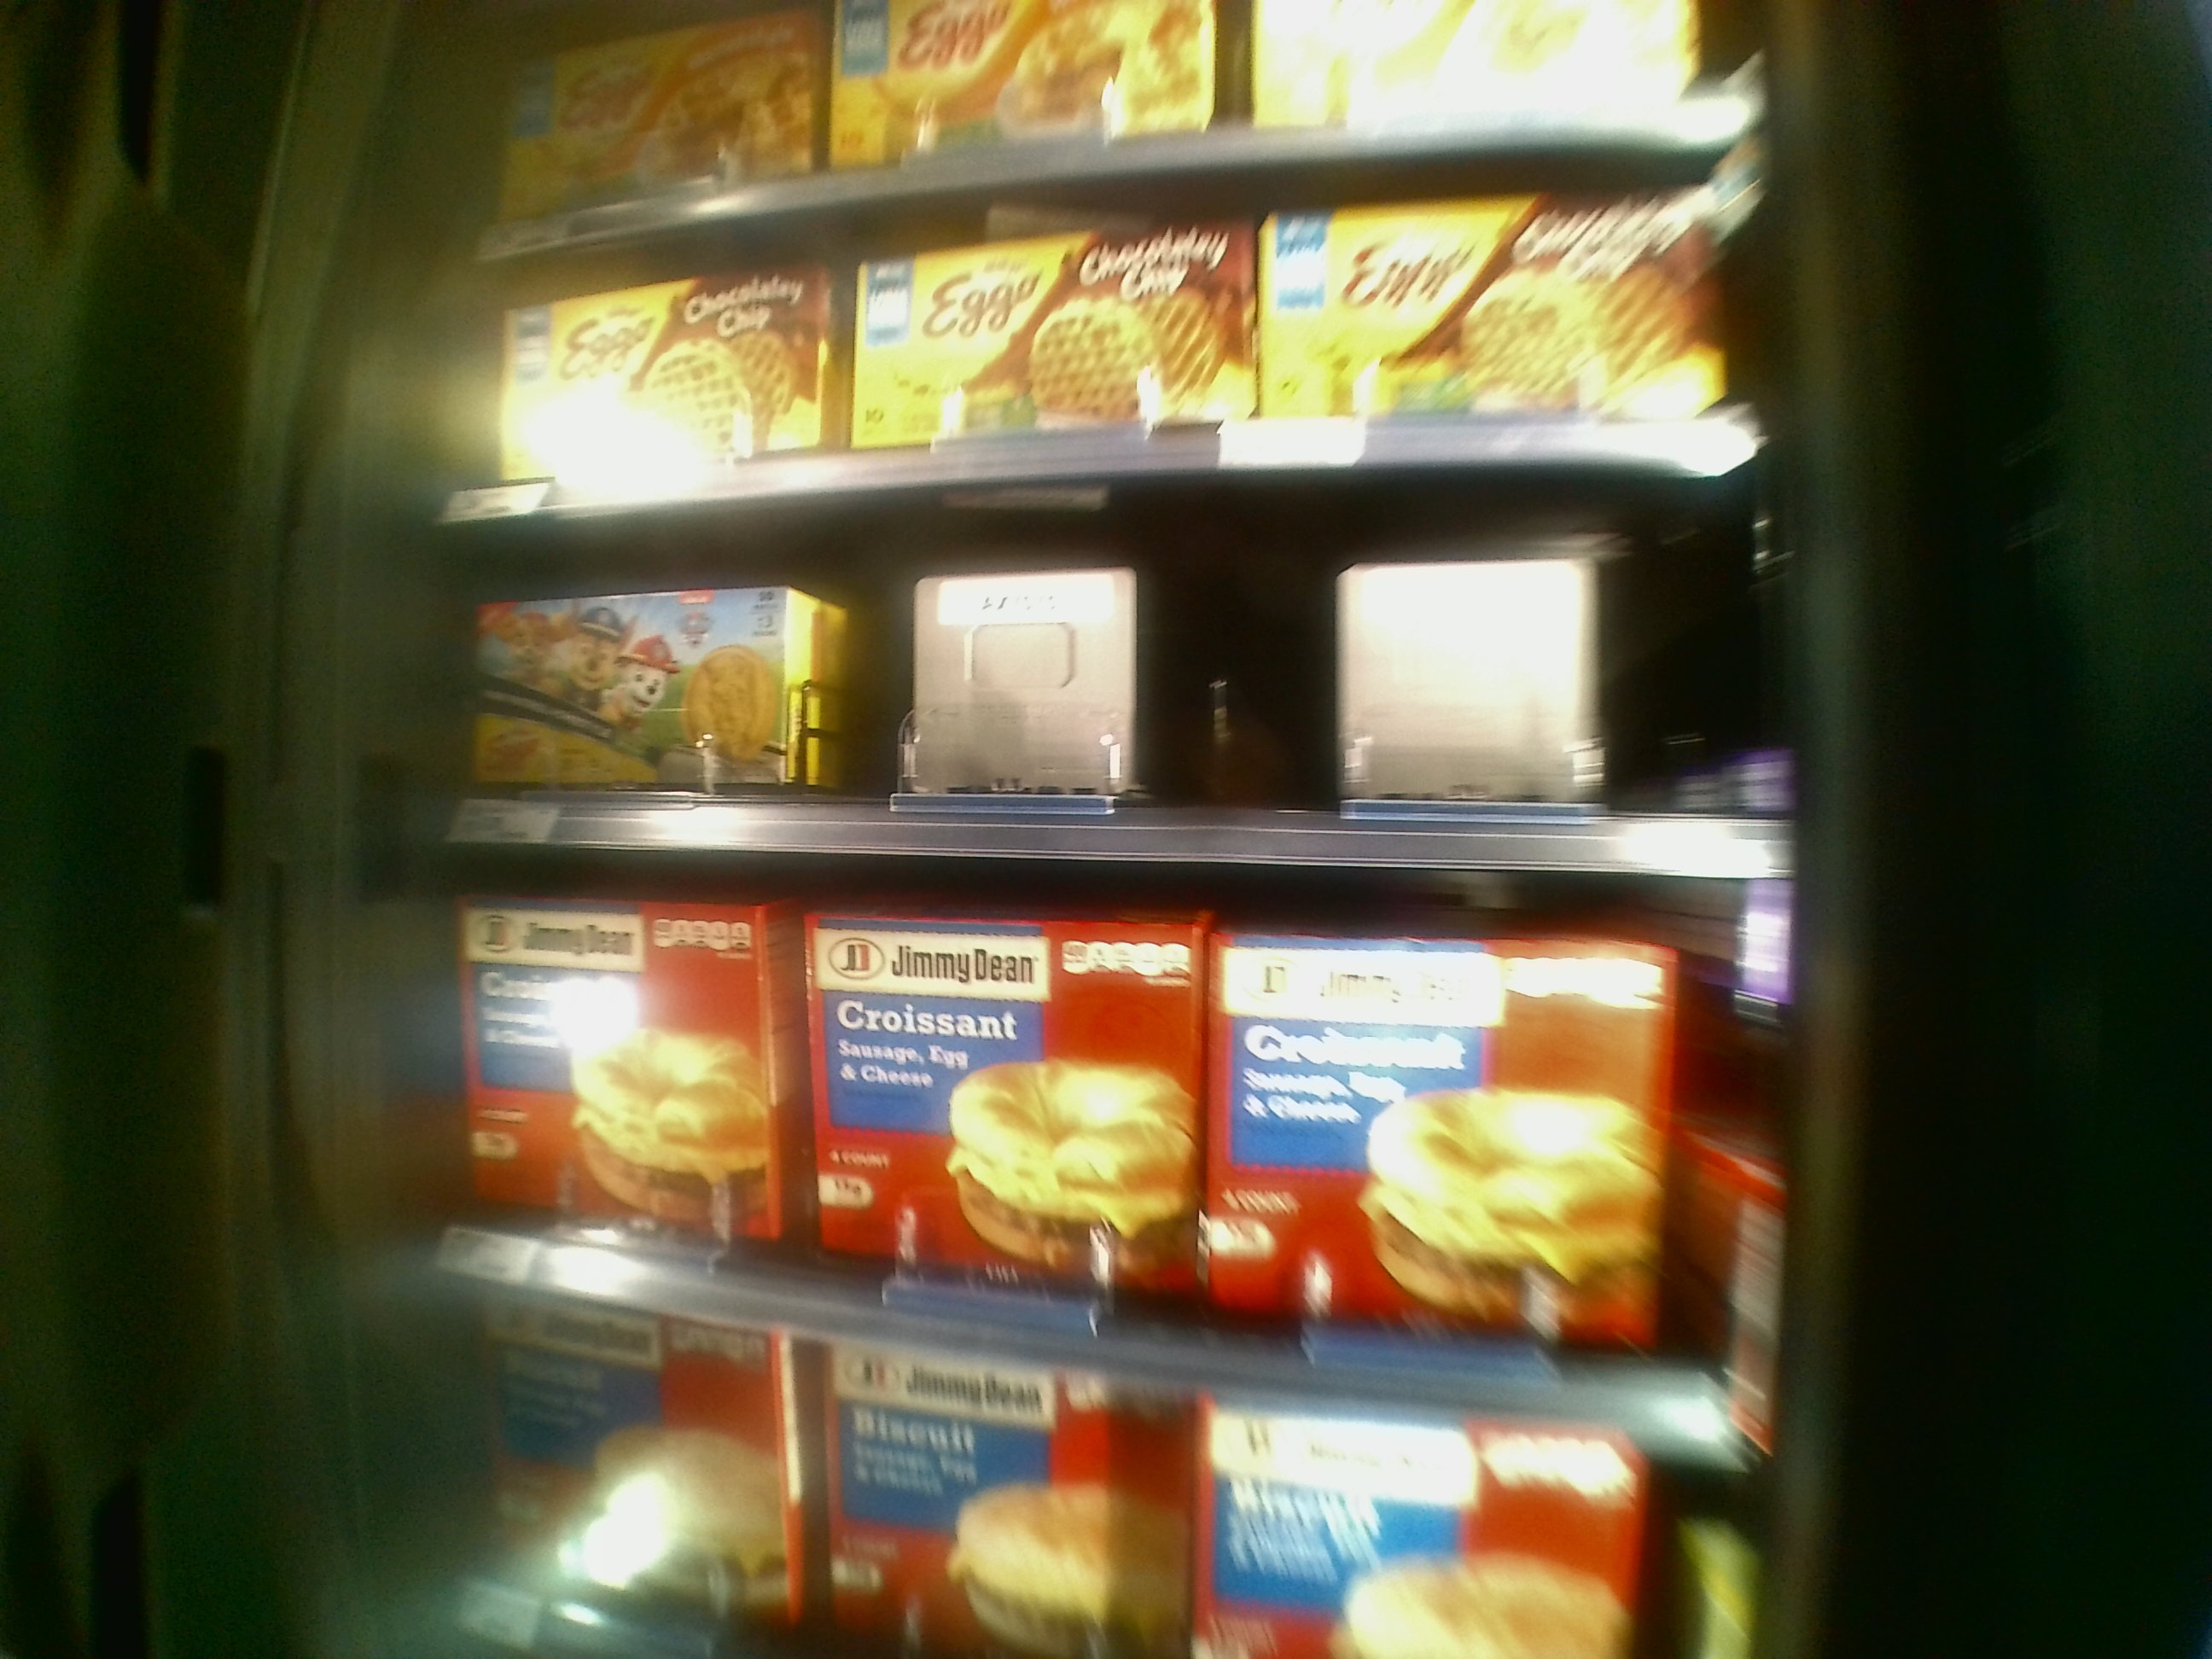shelf: (446, 476, 1794, 877)
